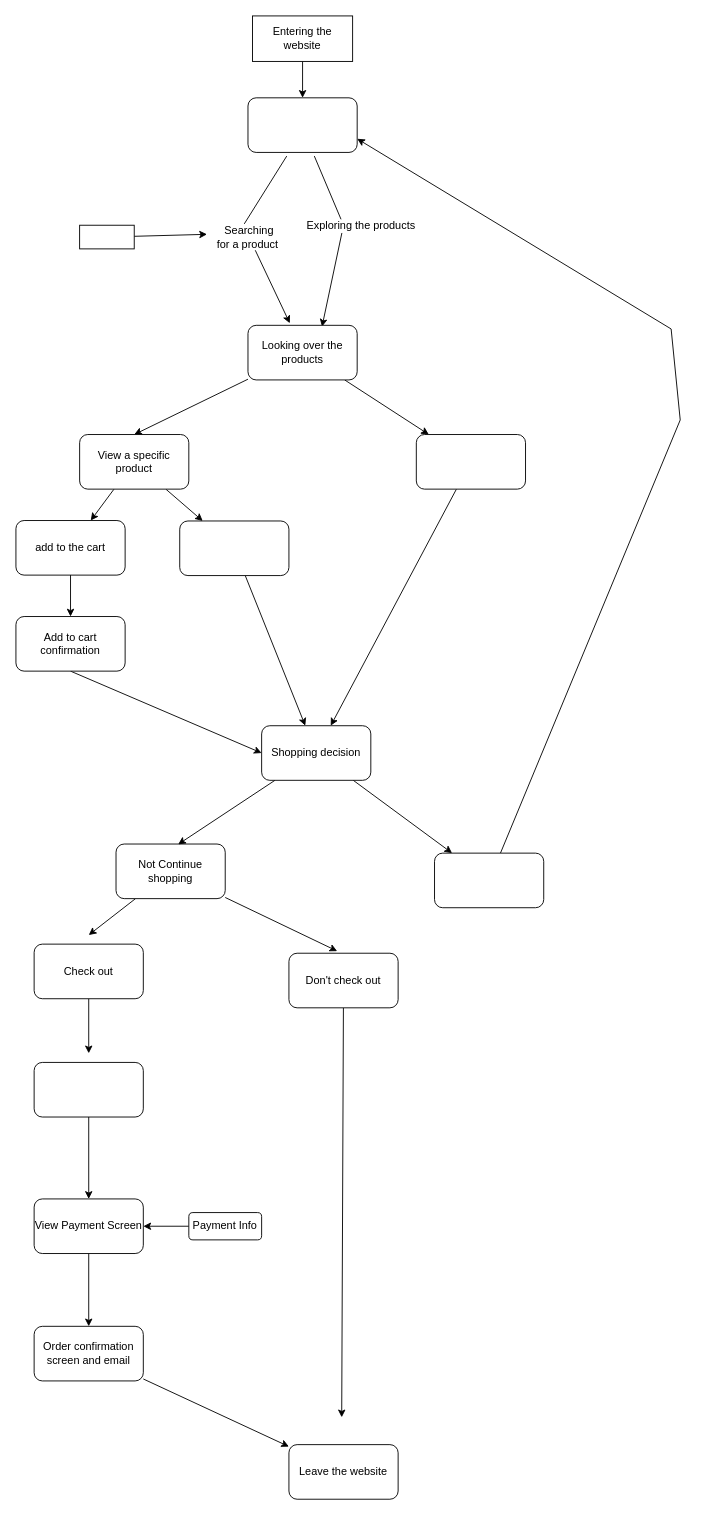
The diagram is 703 pixels wide and 1515 high, and some of its shapes have lost their labels. Here are the shapes that lost their labels. From the top down, the box of each, then its label:
(247, 97, 357, 152): Choose the products
(79, 224, 134, 249): Input of search
(415, 434, 526, 489): Not view the item
(179, 520, 289, 576): Leave the item
(434, 852, 544, 908): Continue shopping
(33, 1062, 143, 1117): View Cart Screen
